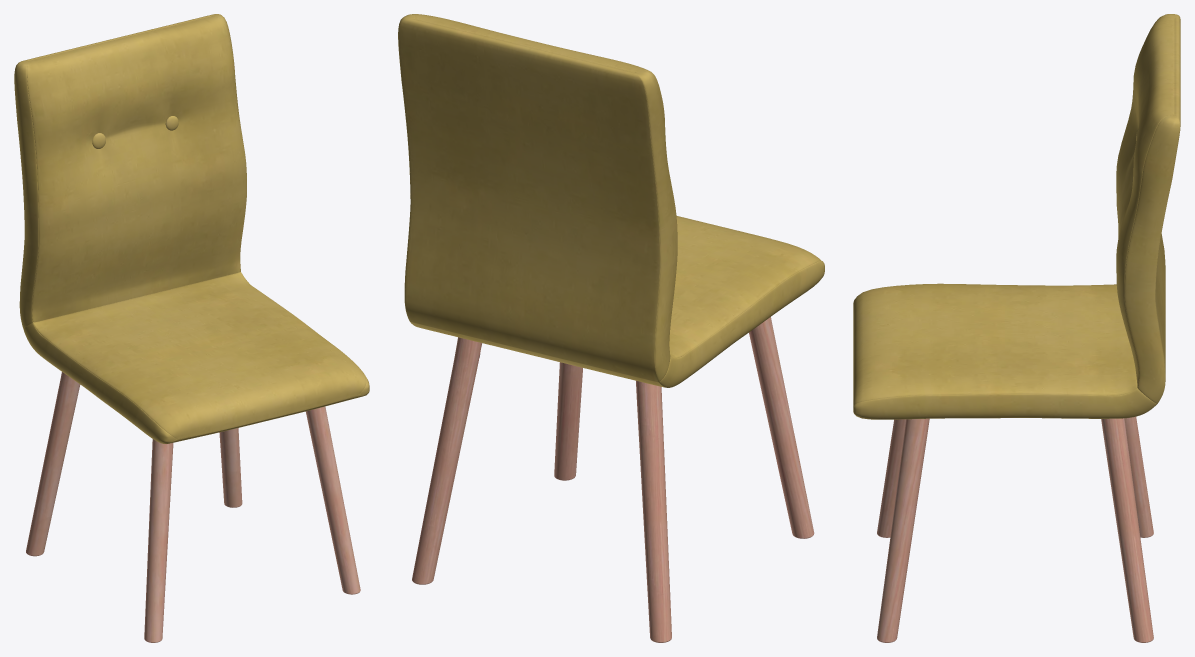
Rendered from abo-B07JKQBXKP.glb.
The picture shows the model from 3 angles, left to right: view 1: azimuth 30°, elevation 25°; view 2: azimuth 150°, elevation 25°; view 3: azimuth 270°, elevation 25°; orthographic projection. The views are drawn at different scales.
Bounding box in the file's own units: 0.45 × 0.965 × 0.55.
Materials: 1 (1 with a texture image).
